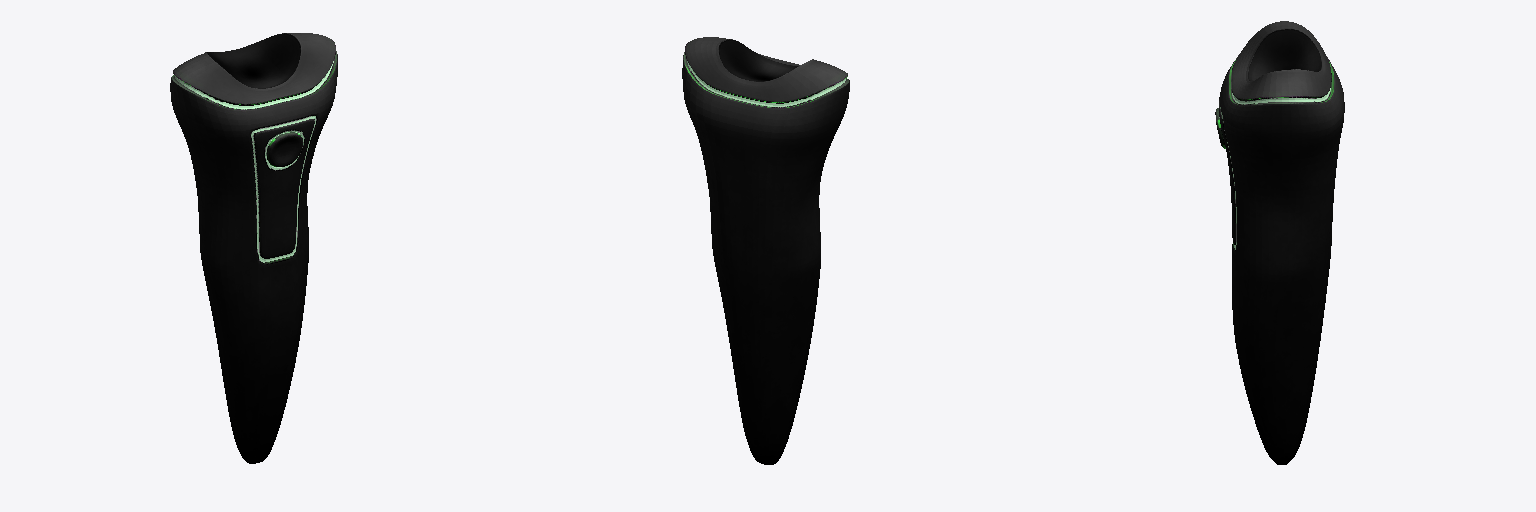
The picture shows the model from 3 angles: view 1: azimuth 30°, elevation 25°; view 2: azimuth 150°, elevation 25°; view 3: azimuth 270°, elevation 25°; orthographic projection.
Visible parts, largest first — view 1: pCube2; view 2: pCube2; view 3: pCube2.
Boxes of the visible parts, <box> form: pCube2: <box>170,33,337,463</box>; pCube2: <box>682,37,849,464</box>; pCube2: <box>1215,21,1344,464</box>.
Size of the model in its own units: 4.18 by 10.55 by 2.99.
1 materials, 1 textured.